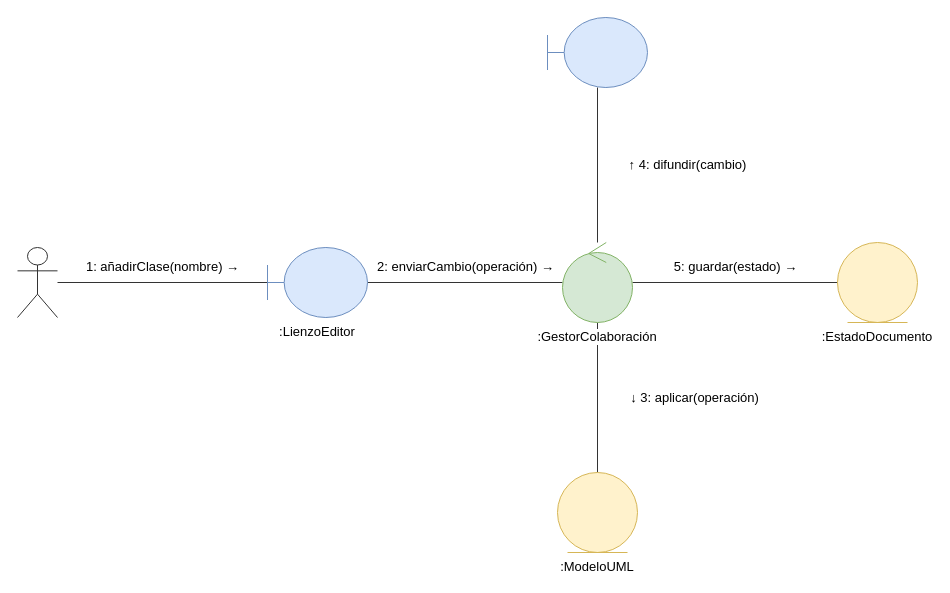
The diagram is 950 pixels wide and 593 high, and some of its shapes have lost their labels. The shapes that lost their labels are listed below. From the top down, each one's box as (x1, y1, x2, y2) in pixels, then its label:
(546, 16, 648, 88): :LienzoEditor (otros miembros)
(16, 246, 58, 318): Editor
